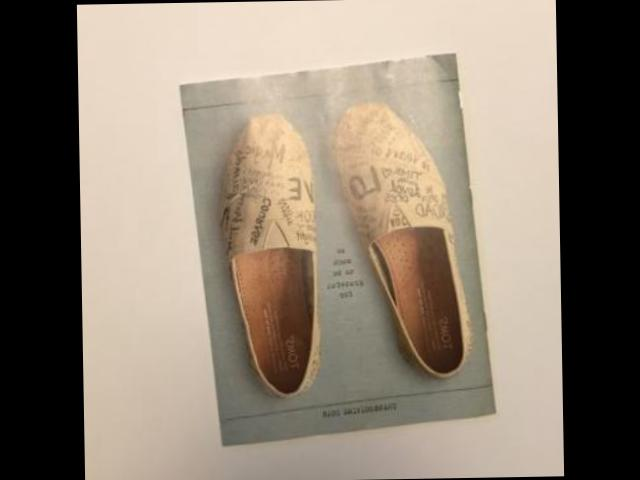cardboard paper: (178, 52, 491, 443)
